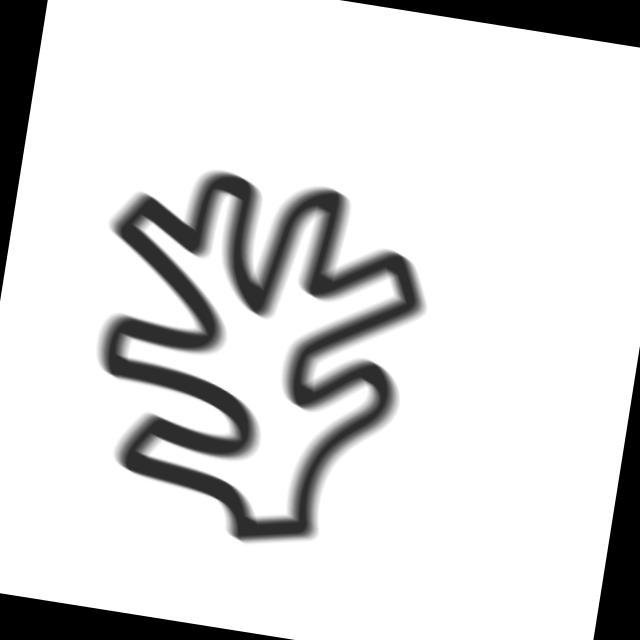coral: (59, 142, 454, 574)
